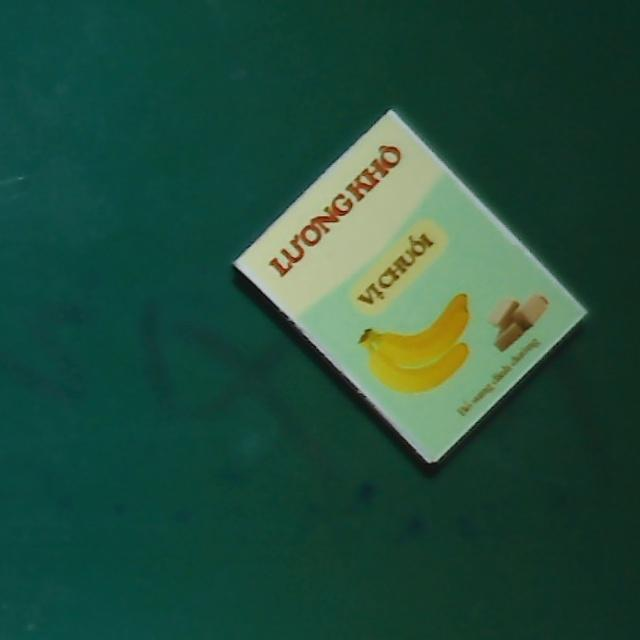chuoi: (230, 108, 591, 469)
